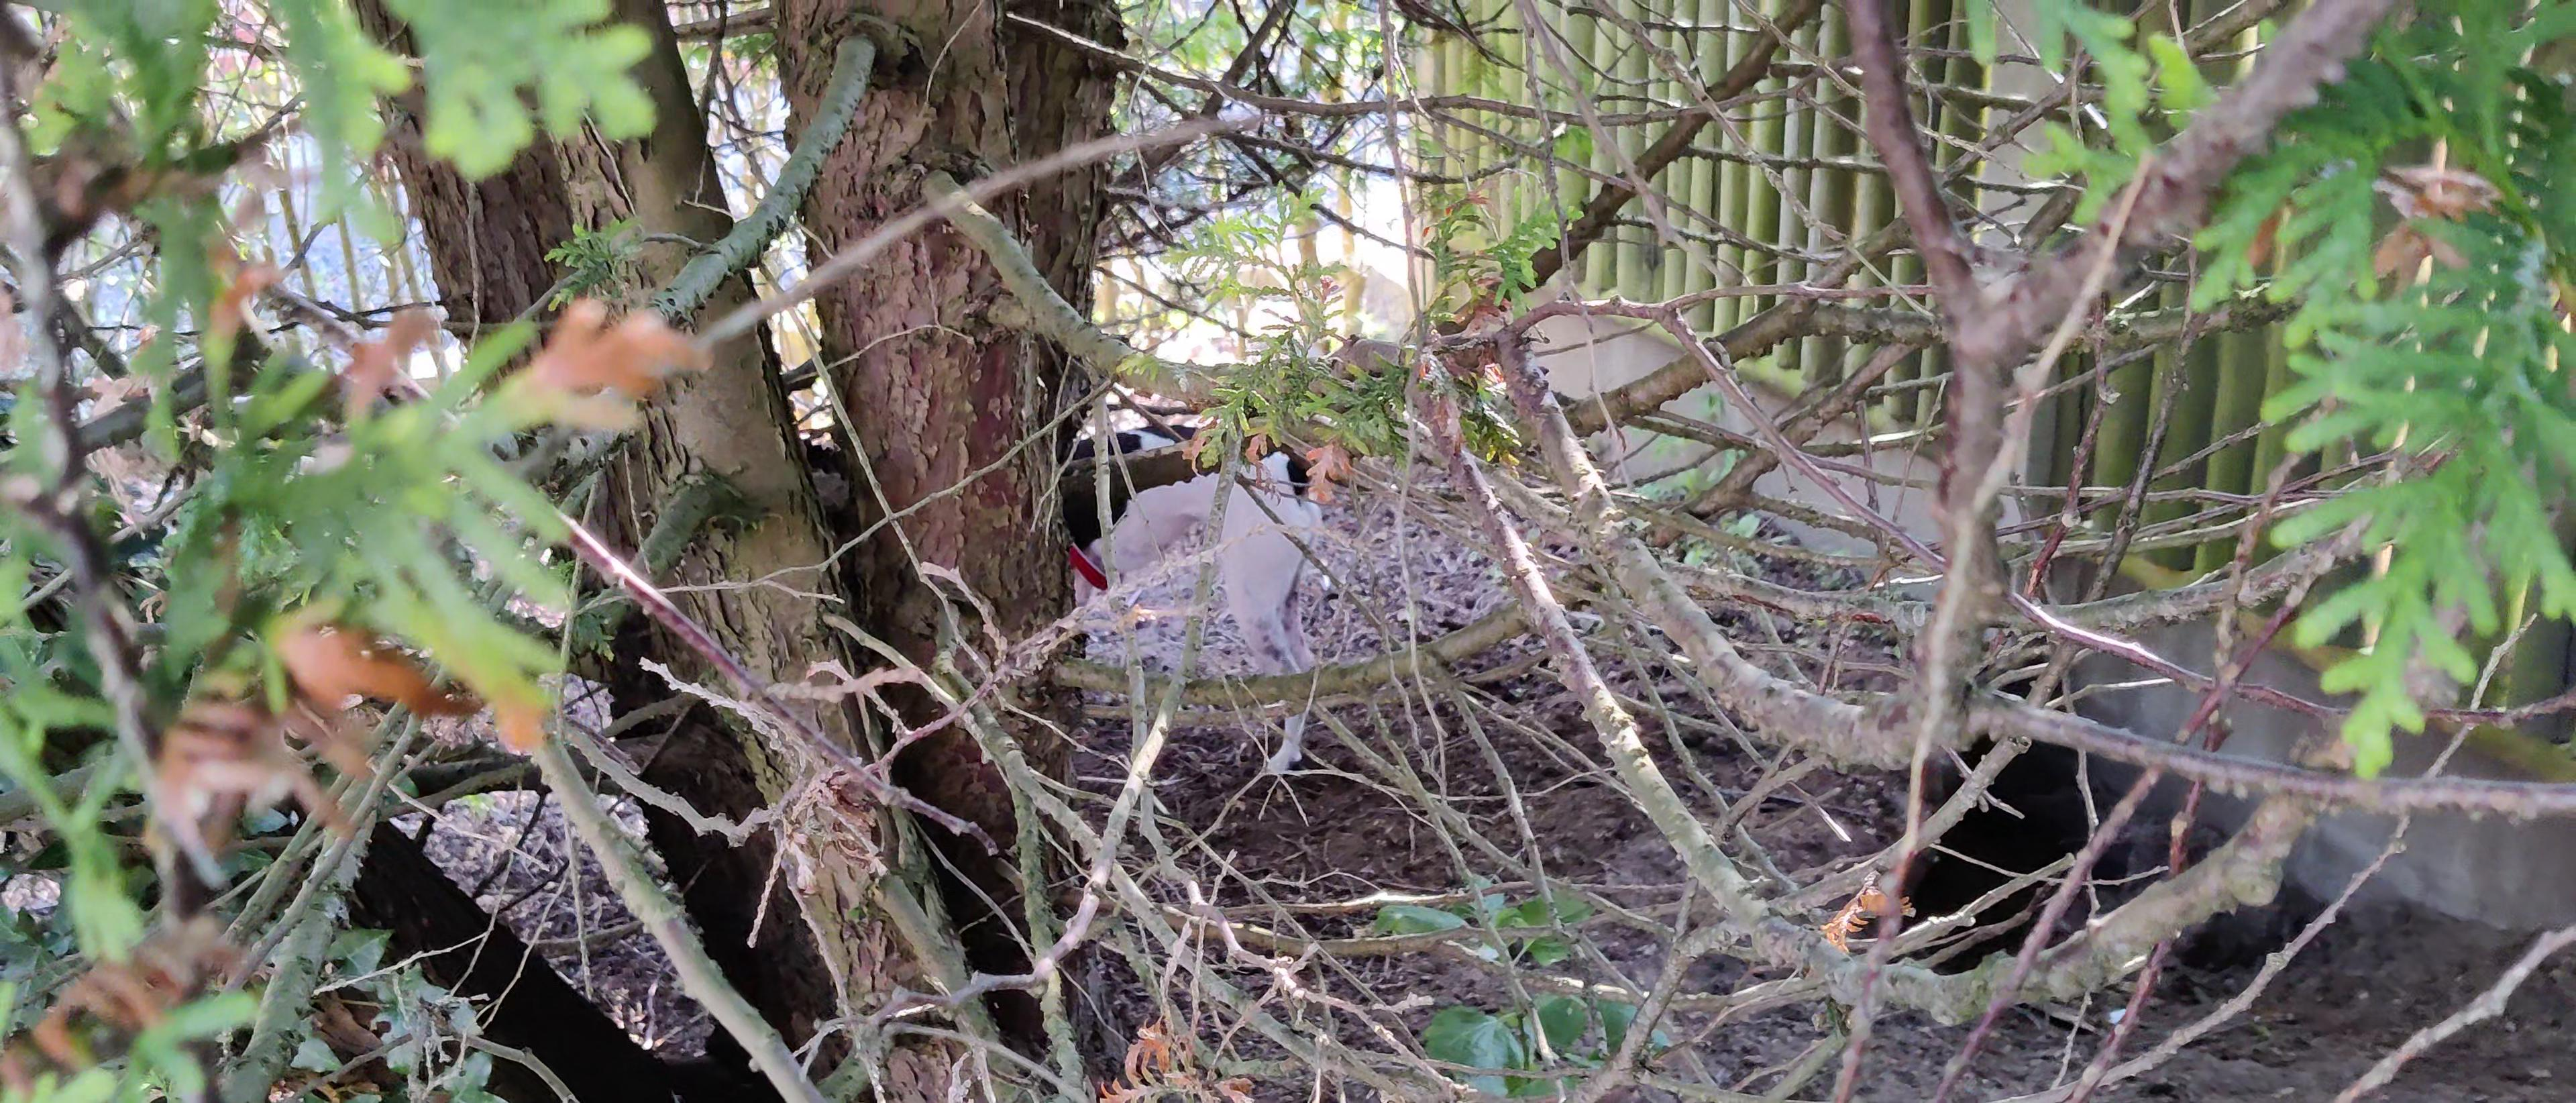Dog: (1030, 334, 1360, 778)
